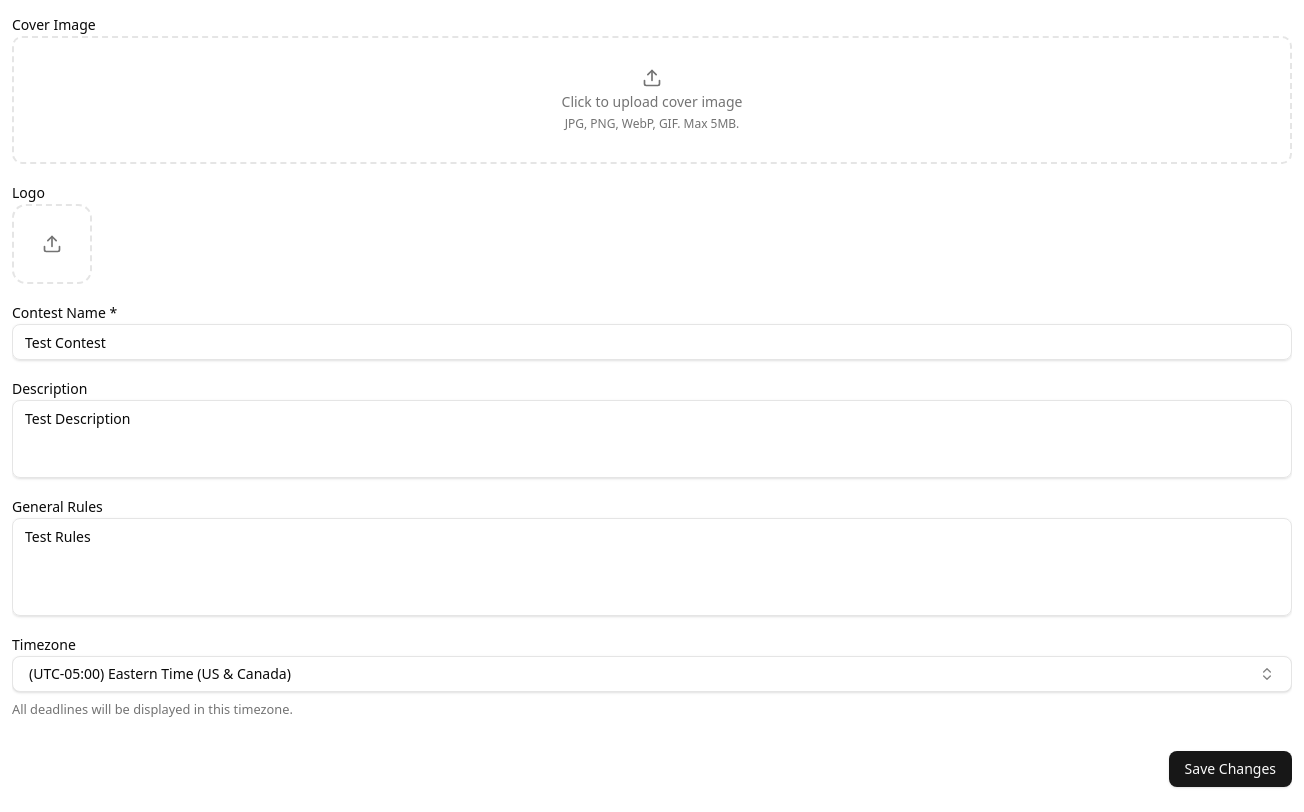
EditContestForm › disables submit button while submitting
The width and height of the screenshot is (1304, 812).
Click the button "Save Changes" at (1230, 769), box [1169, 751, 1292, 787]
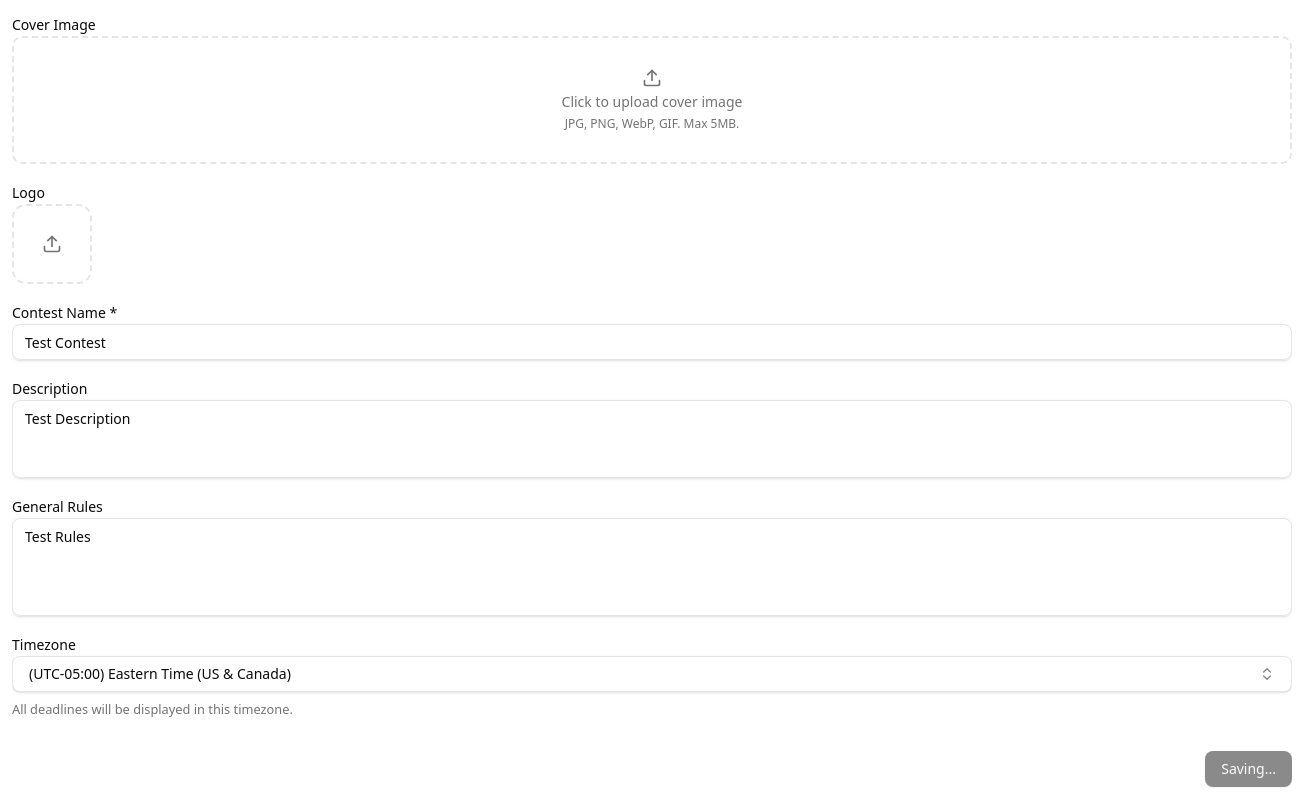
Now the button named "save changes" is disabled, box [1205, 751, 1292, 787]
